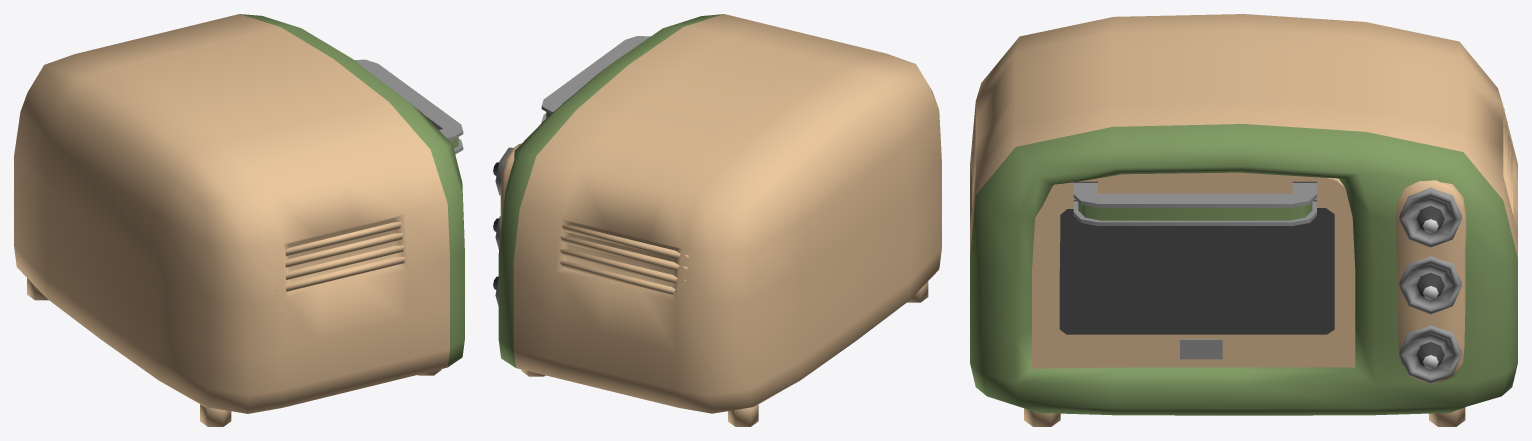
The model's file is Oven.fbx.
3 renders of one model, left to right at view 1: azimuth 30°, elevation 25°; view 2: azimuth 150°, elevation 25°; view 3: azimuth 270°, elevation 25°, orthographic. The views are drawn at different scales.
Visible parts, largest first — view 1: Oven, Oven_door; view 2: Oven, Oven_door; view 3: Oven, Oven_door.
Boxes of the visible parts, <box> form: Oven: <box>14,14,464,426</box>; Oven_door: <box>354,59,463,154</box>; Oven: <box>493,14,941,426</box>; Oven_door: <box>541,36,650,122</box>; Oven: <box>970,14,1517,426</box>; Oven_door: <box>1032,172,1355,368</box>.
Bounding box in the file's own units: 133 × 106 × 180.
